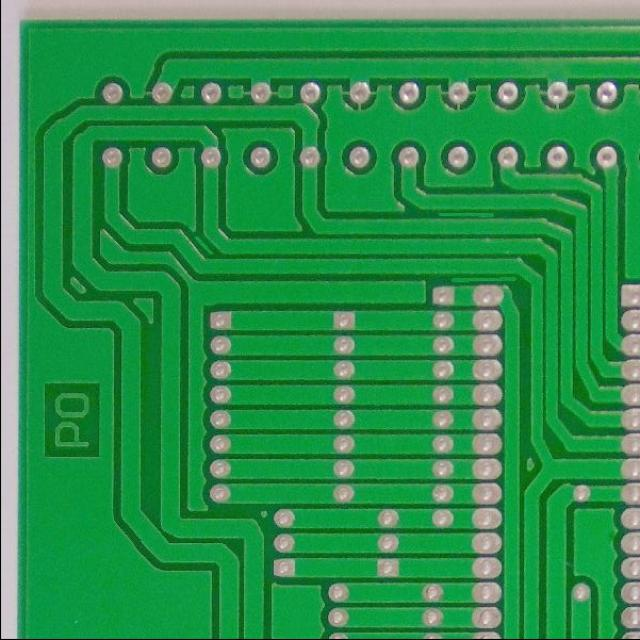Spurious_Cooper: (447, 270, 519, 286), (188, 229, 220, 258), (436, 206, 498, 220)
